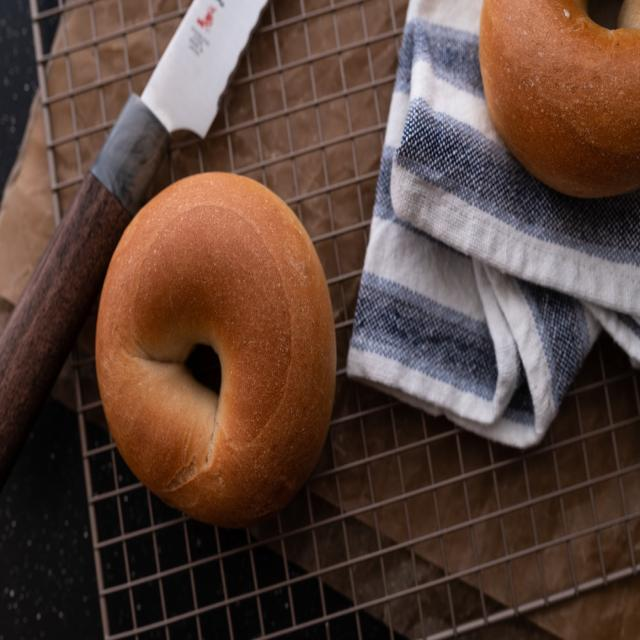Bagel: (96, 173, 336, 527), (479, 0, 640, 197)
